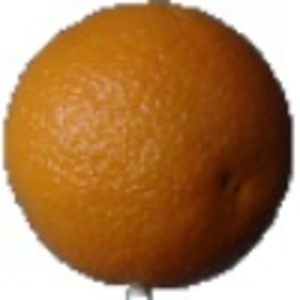laranja: (3, 2, 295, 298)
